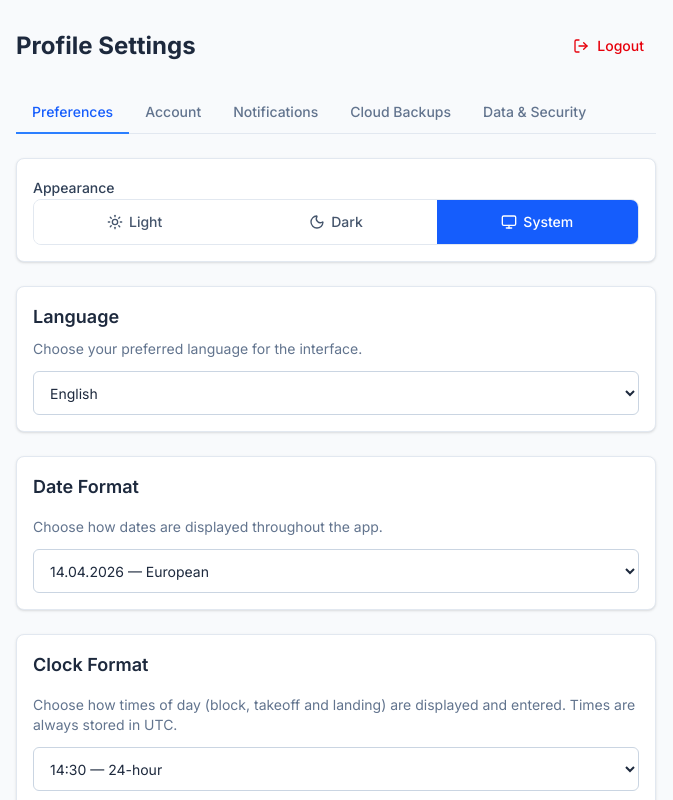
Test: ProfilePage › shows delete confirmation when button clicked
Click the button "Data & Security".
click(535, 113)  # box [467,92,602,134]
(page scrolled)
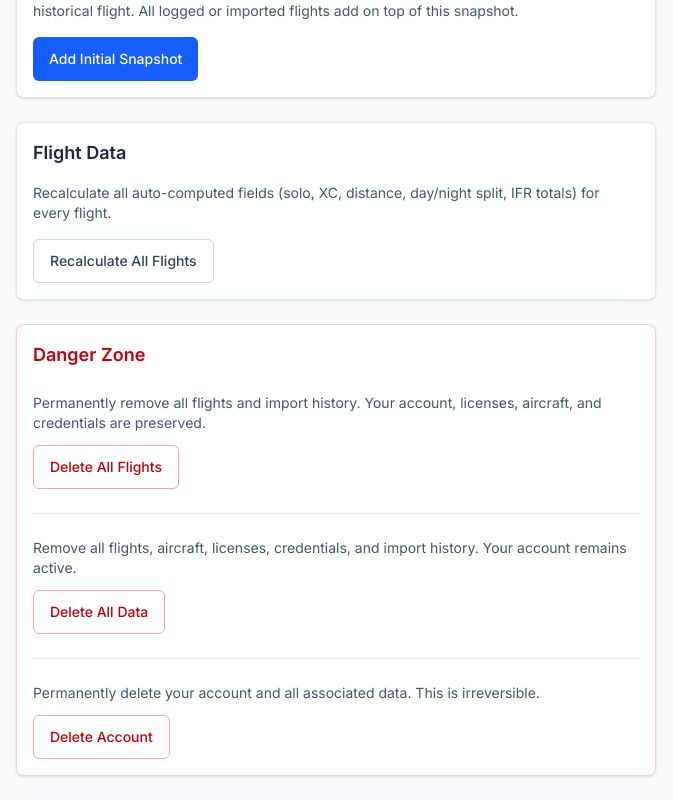
Click the button "Delete Account".
click(101, 737)  # box [33,715,170,759]
(page scrolled)
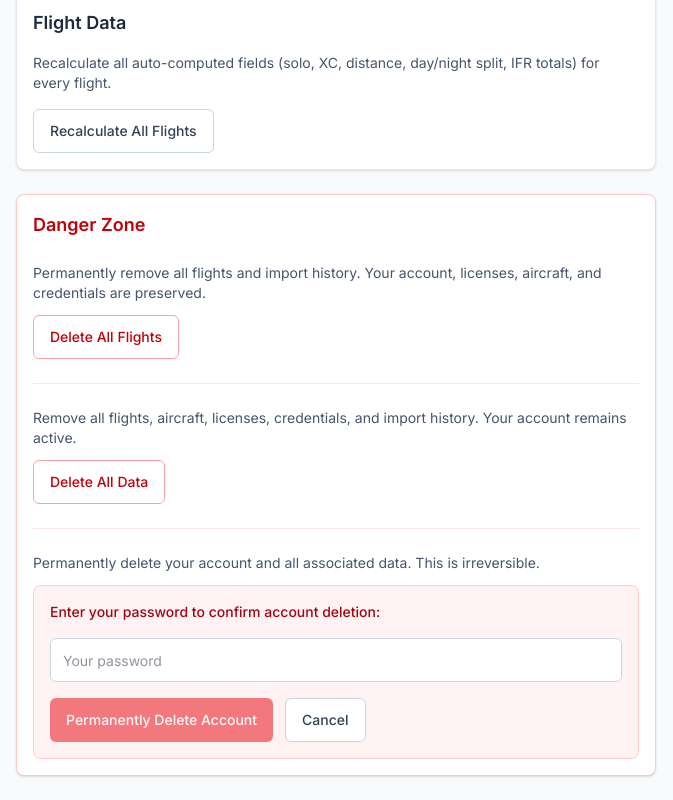
Check: the text "Enter your password to confirm account deletion:" is shown, box [50,603,380,620]
Check: the button "Permanently Delete Account" is shown, box [50,698,273,742]
